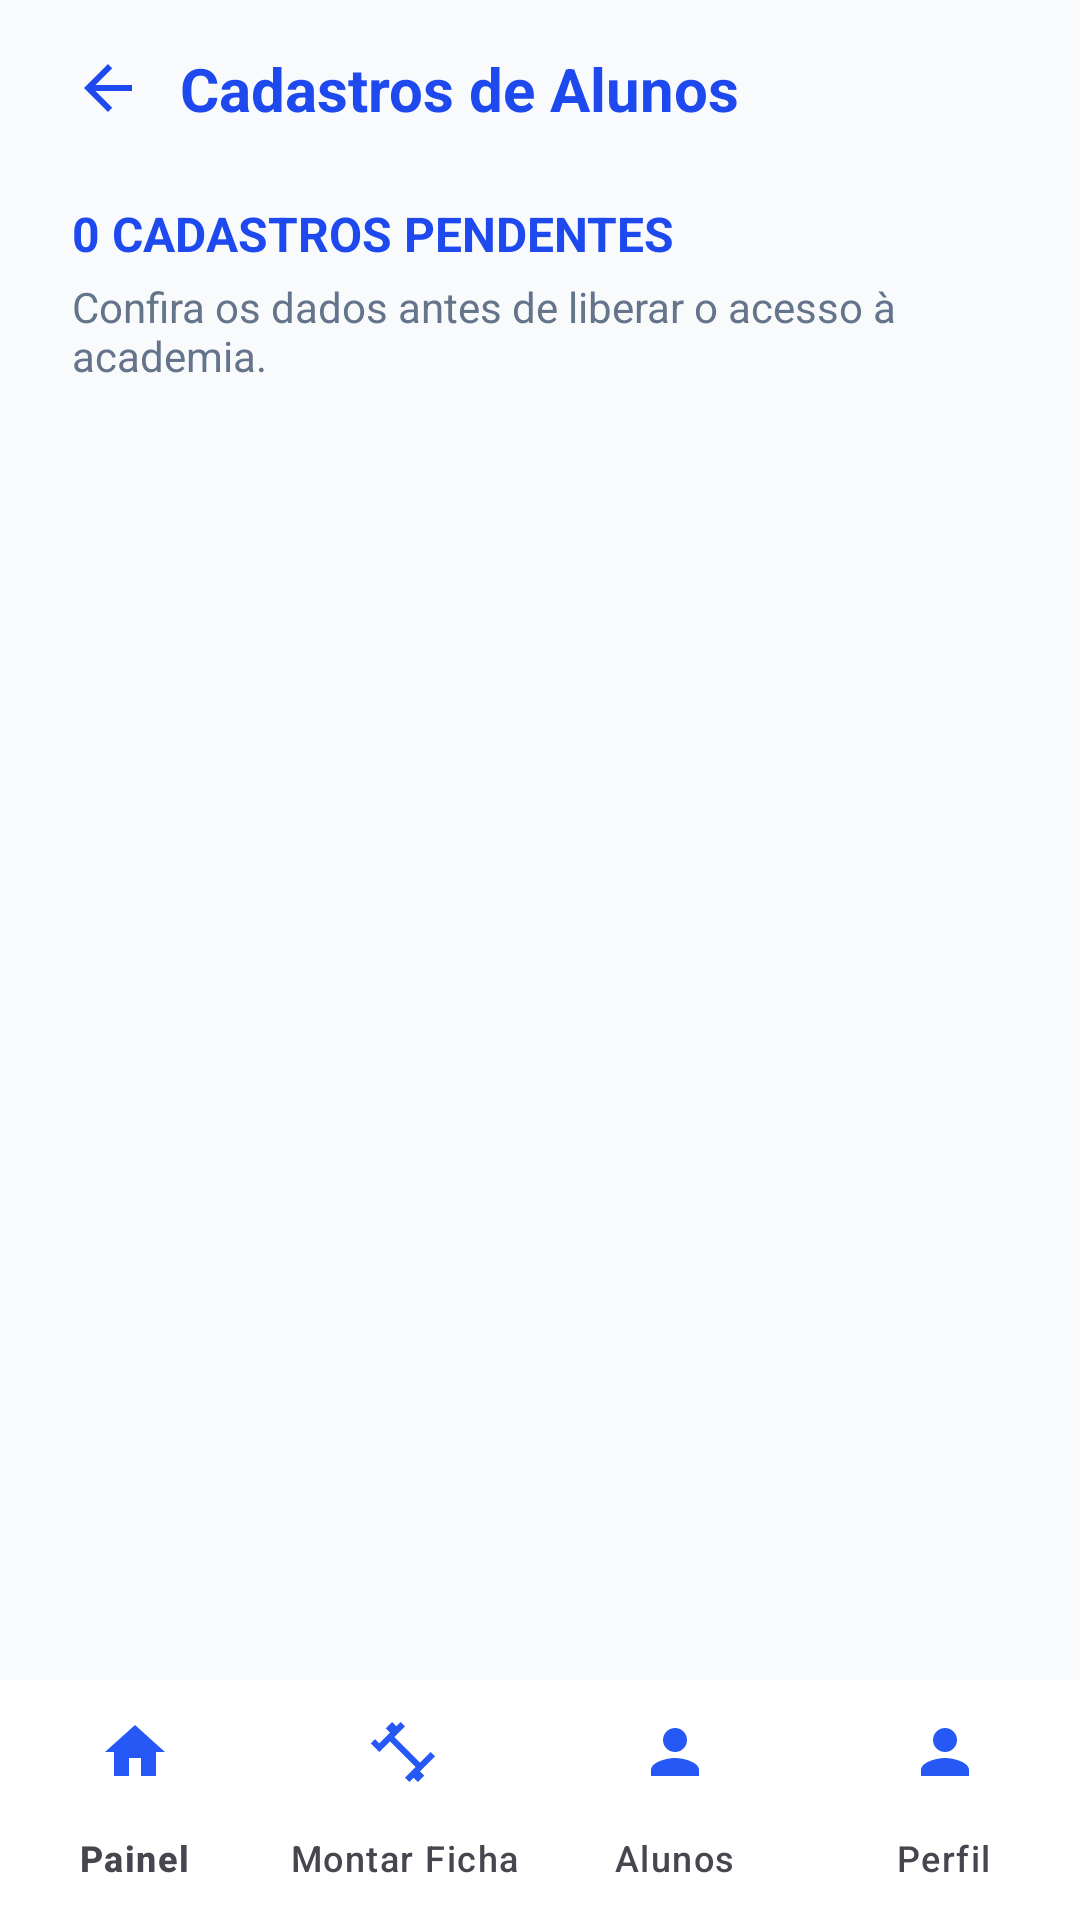

Icon click points for this 1080px×1920px phone screenshot, format (x=x, y=y):
arrow back: (x=108, y=88)
